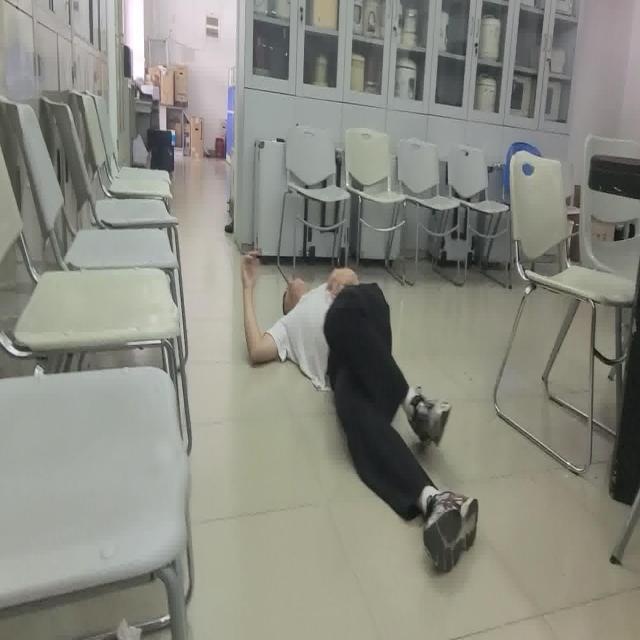fall: (240, 247, 480, 580)
